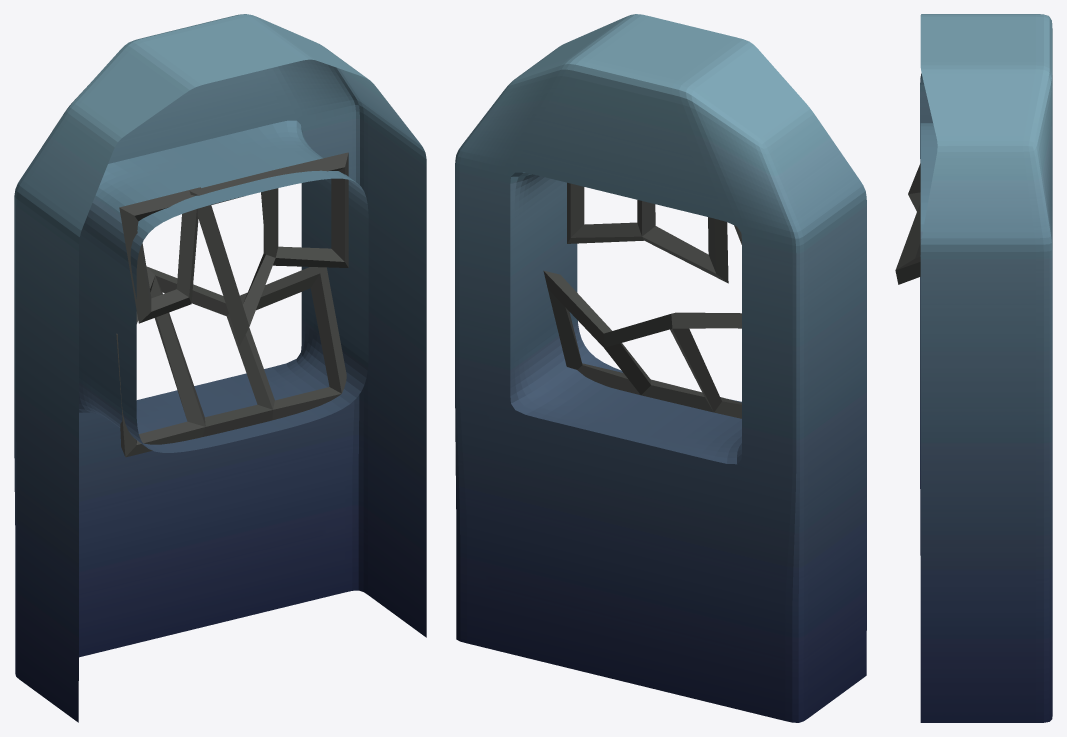
The model's file is Pared4.fbx.
The picture shows the model from 3 angles, left to right: view 1: azimuth 30°, elevation 25°; view 2: azimuth 150°, elevation 25°; view 3: azimuth 270°, elevation 25°; orthographic projection.
Parts seen in each view (by area): view 1: Pared con ventana.001, Plane.011; view 2: Pared con ventana.001, Plane.011; view 3: Pared con ventana.001, Plane.011.
Boxes of the visible parts, left/top/right/bottom form: Pared con ventana.001: left=14, top=14, right=426, bottom=722; Plane.011: left=116, top=152, right=348, bottom=457; Pared con ventana.001: left=455, top=14, right=866, bottom=722; Plane.011: left=543, top=182, right=741, bottom=418; Pared con ventana.001: left=920, top=14, right=1052, bottom=722; Plane.011: left=895, top=163, right=920, bottom=284.
Size of the model in its own units: 599 by 1000 by 238.
